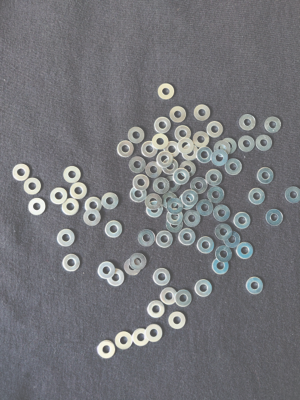circle: (12, 162, 33, 184), (62, 164, 82, 186), (96, 340, 116, 360), (195, 279, 215, 298), (27, 197, 47, 216), (126, 126, 147, 144), (168, 311, 187, 330), (146, 300, 165, 319), (246, 277, 265, 296), (264, 115, 283, 134), (132, 328, 150, 348), (115, 331, 133, 351), (69, 182, 89, 200), (23, 177, 43, 195), (256, 167, 276, 185), (145, 324, 164, 342), (175, 289, 194, 307), (160, 288, 179, 306), (106, 269, 125, 287), (98, 261, 116, 280), (179, 228, 197, 247), (156, 230, 174, 249), (83, 209, 102, 227), (165, 207, 184, 225), (196, 198, 214, 217), (220, 137, 238, 156), (255, 133, 274, 151), (204, 169, 224, 186), (156, 83, 176, 100), (154, 268, 172, 286), (63, 254, 81, 272), (237, 242, 255, 260), (137, 229, 155, 247), (62, 198, 80, 216), (146, 201, 164, 219), (117, 140, 135, 158), (169, 105, 187, 123), (163, 140, 181, 158), (206, 121, 224, 139), (225, 158, 243, 176), (213, 140, 231, 158), (234, 211, 252, 229), (172, 168, 191, 185), (130, 253, 147, 271), (124, 259, 142, 276), (212, 258, 229, 276), (216, 245, 233, 263), (58, 230, 76, 247), (106, 221, 123, 239), (101, 193, 119, 210), (50, 188, 68, 205), (165, 216, 183, 233), (166, 198, 184, 215), (208, 187, 226, 204), (191, 178, 209, 195), (145, 162, 163, 179), (141, 141, 159, 158), (154, 117, 172, 134), (181, 144, 199, 161), (194, 104, 212, 121), (239, 114, 257, 131), (249, 188, 266, 206), (266, 209, 284, 226), (161, 193, 180, 209), (179, 161, 198, 177), (224, 231, 241, 248), (215, 223, 232, 240), (198, 237, 215, 254), (130, 186, 147, 203), (153, 177, 170, 194), (163, 158, 180, 175), (152, 133, 169, 150), (175, 125, 192, 142), (193, 131, 210, 148), (239, 135, 256, 152), (85, 196, 103, 212), (213, 206, 231, 222), (132, 175, 150, 191), (129, 157, 147, 173), (177, 138, 195, 154), (185, 212, 202, 228), (145, 193, 162, 209), (179, 193, 195, 210), (182, 190, 199, 206), (165, 176, 181, 193), (157, 152, 174, 168), (197, 147, 213, 164), (212, 150, 228, 167), (285, 186, 300, 204)
